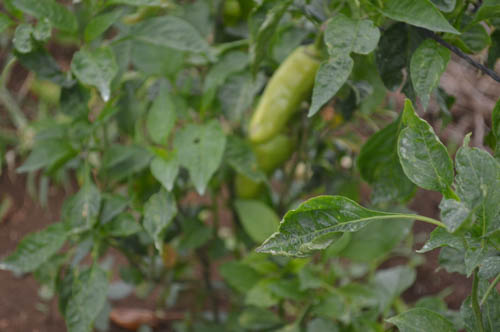ChiliPepper: (242, 51, 325, 141), (234, 134, 298, 205)
